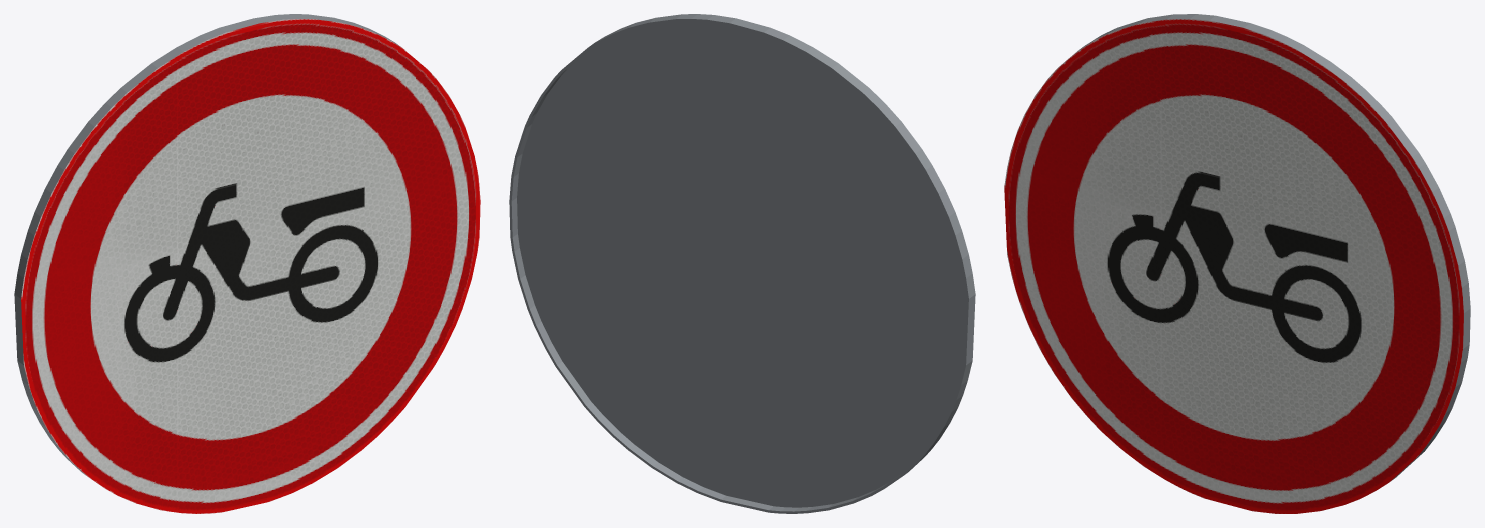
3 views of the same model, side by side, from view 1: azimuth 30°, elevation 25°; view 2: azimuth 150°, elevation 25°; view 3: azimuth 330°, elevation 25° (orthographic).
Parts seen in each view (by area): view 1: cat_355d9d8d81e30e2a; view 2: cat_355d9d8d81e30e2a; view 3: cat_355d9d8d81e30e2a.
Boxes of the visible parts, <box> form: cat_355d9d8d81e30e2a: <box>14,14,480,513</box>; cat_355d9d8d81e30e2a: <box>509,14,975,513</box>; cat_355d9d8d81e30e2a: <box>1004,14,1470,513</box>.
Bounding box in the file's own units: 0.6 × 0.015 × 0.6.
Materials: 2 (1 with a texture image).
